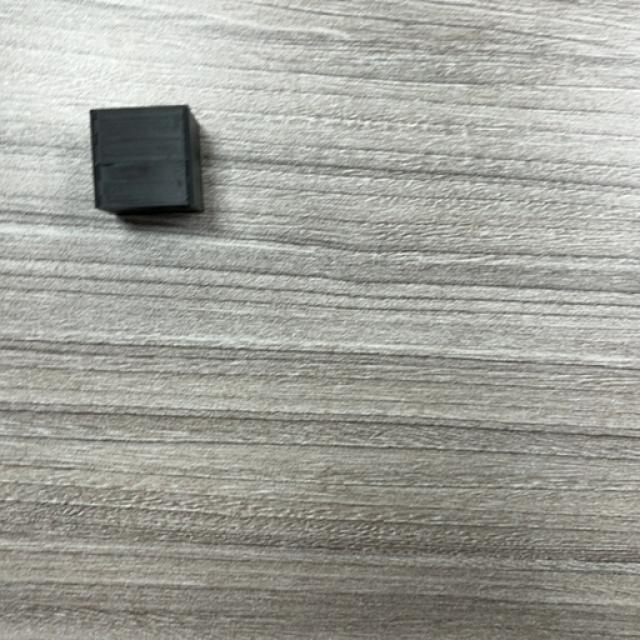Negro: (89, 105, 205, 219)
